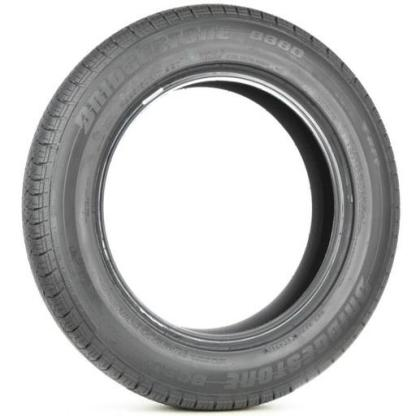Tire: (20, 3, 402, 415)
